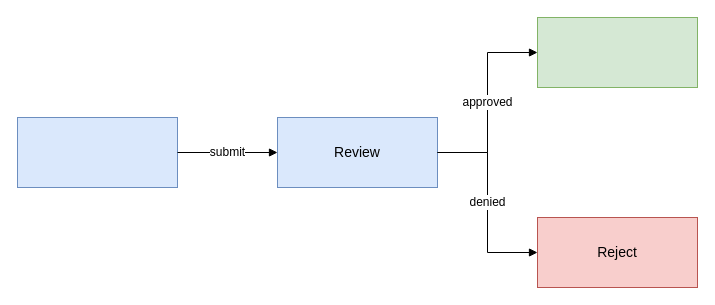
Some shapes in this 715 by 305 pixel diagram are drawn without their labels. Here are the shapes that lost their labels. From the top down, the box of each, then its label:
(536, 16, 698, 88): Grant
(16, 116, 178, 188): Request
